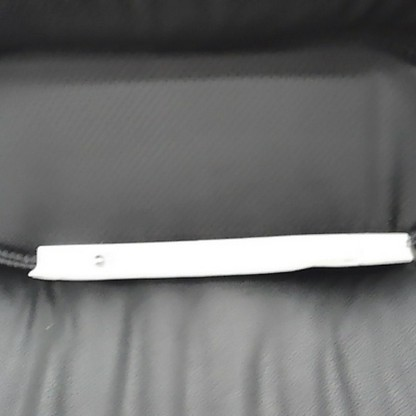ironball: (89, 250, 104, 267)
